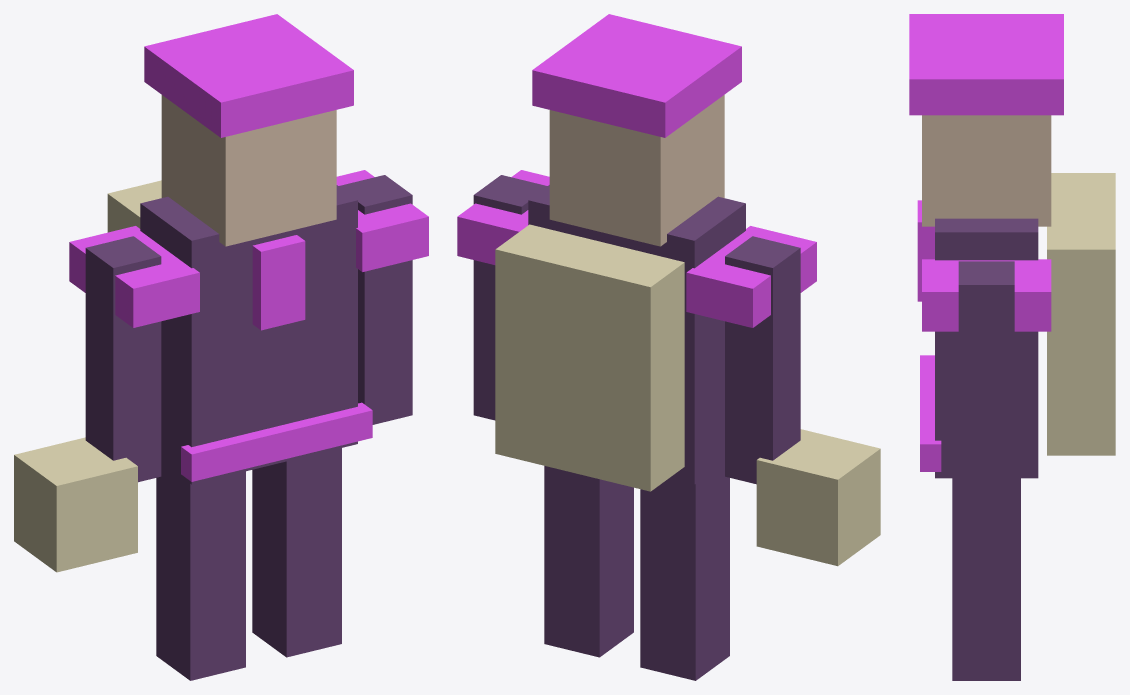
The model's file is 05_bex_gantryn_broker_of_bulk.glb.
3 renders of one model, left to right at view 1: azimuth 30°, elevation 25°; view 2: azimuth 150°, elevation 25°; view 3: azimuth 270°, elevation 25°, orthographic.
Parts seen in each view (by area): view 1: Bex Gantryn, Broker of Bulk; view 2: Bex Gantryn, Broker of Bulk; view 3: Bex Gantryn, Broker of Bulk.
Part boxes in pixels (bbox=[...]): Bex Gantryn, Broker of Bulk: bbox=[14, 14, 428, 680]; Bex Gantryn, Broker of Bulk: bbox=[457, 14, 880, 680]; Bex Gantryn, Broker of Bulk: bbox=[909, 14, 1115, 680].
Size of the model in its own units: 1.03 by 1.59 by 0.4978.
